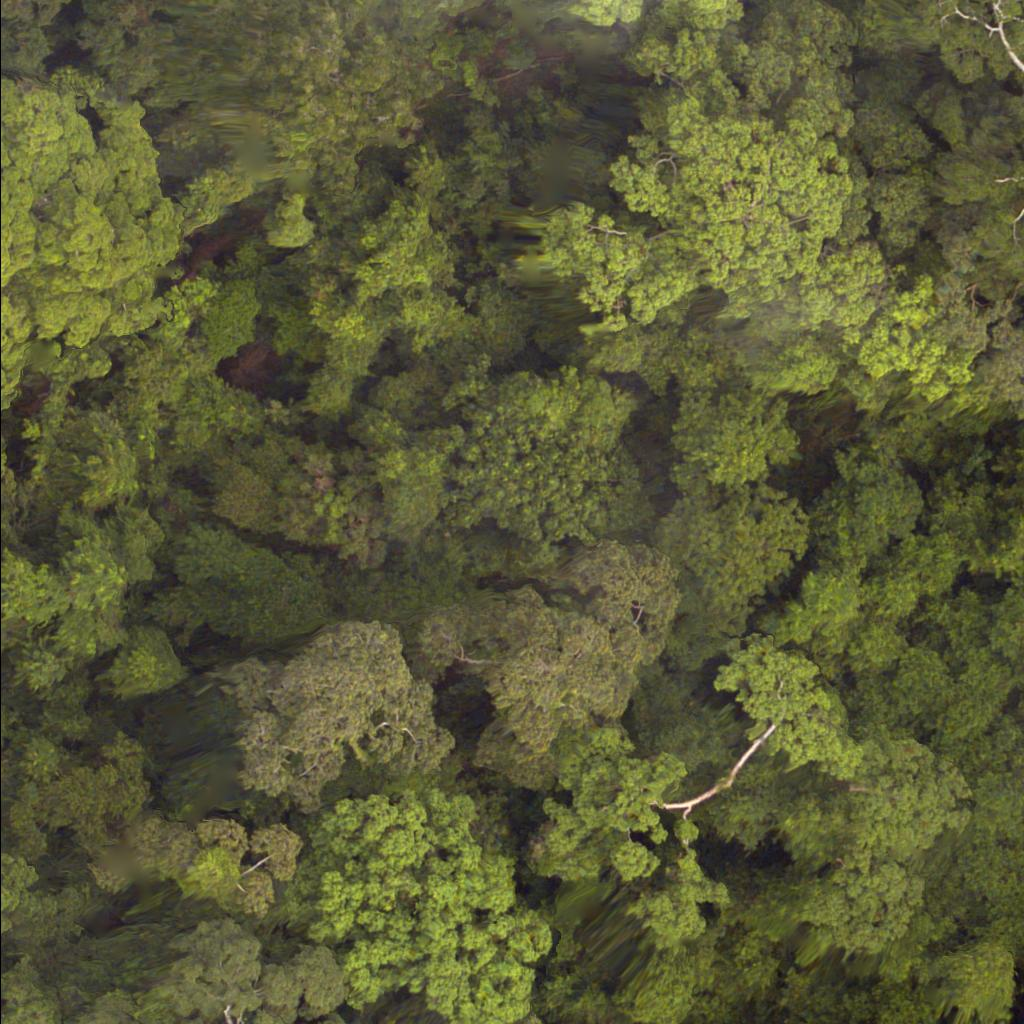crown: (497, 82, 995, 412), (282, 776, 545, 1023), (411, 549, 684, 766), (236, 618, 478, 786), (65, 915, 366, 1023)
